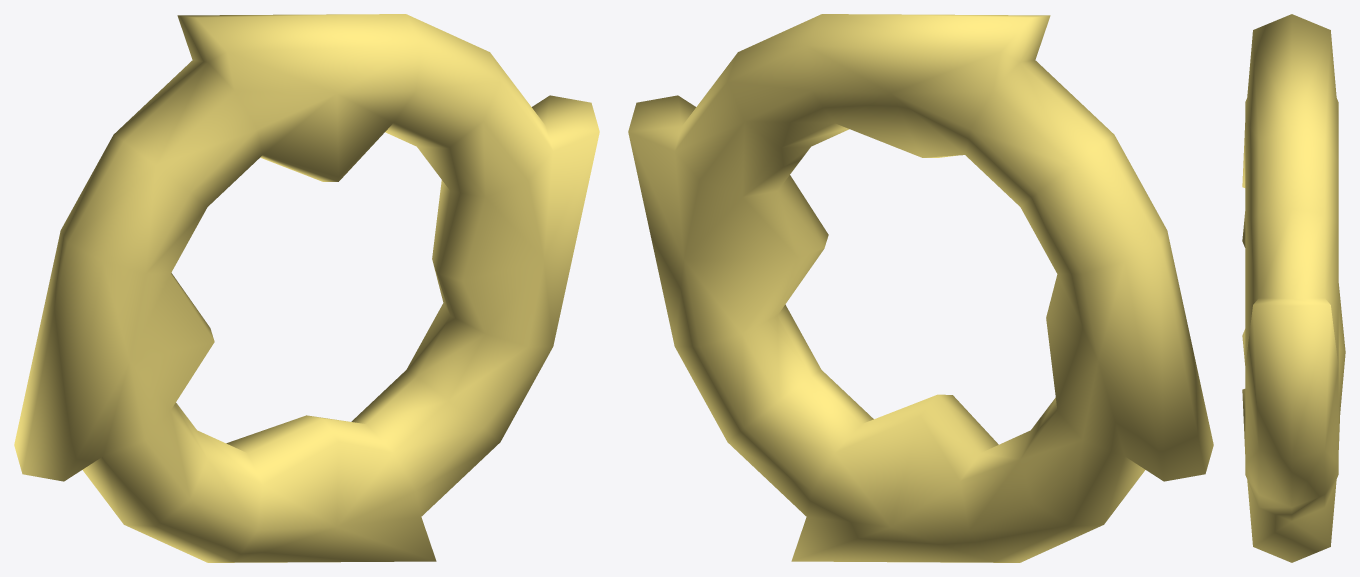
File: Goal.obj
The picture shows the model from 3 angles, left to right: view 1: azimuth 30°, elevation 25°; view 2: azimuth 150°, elevation 25°; view 3: azimuth 270°, elevation 25°; orthographic projection. The views are drawn at different scales.
Visible parts, largest first — view 1: トーラス; view 2: トーラス; view 3: トーラス.
Part boxes in pixels (<box>): トーラス: <box>14,14,599,562</box>; トーラス: <box>628,14,1213,562</box>; トーラス: <box>1242,14,1345,562</box>.
Bounding box in the file's own units: 2.75 × 2.75 × 0.5541.
Materials: 1 (1 with a texture image).
